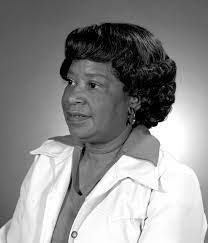black_female: (56, 19, 184, 149)
